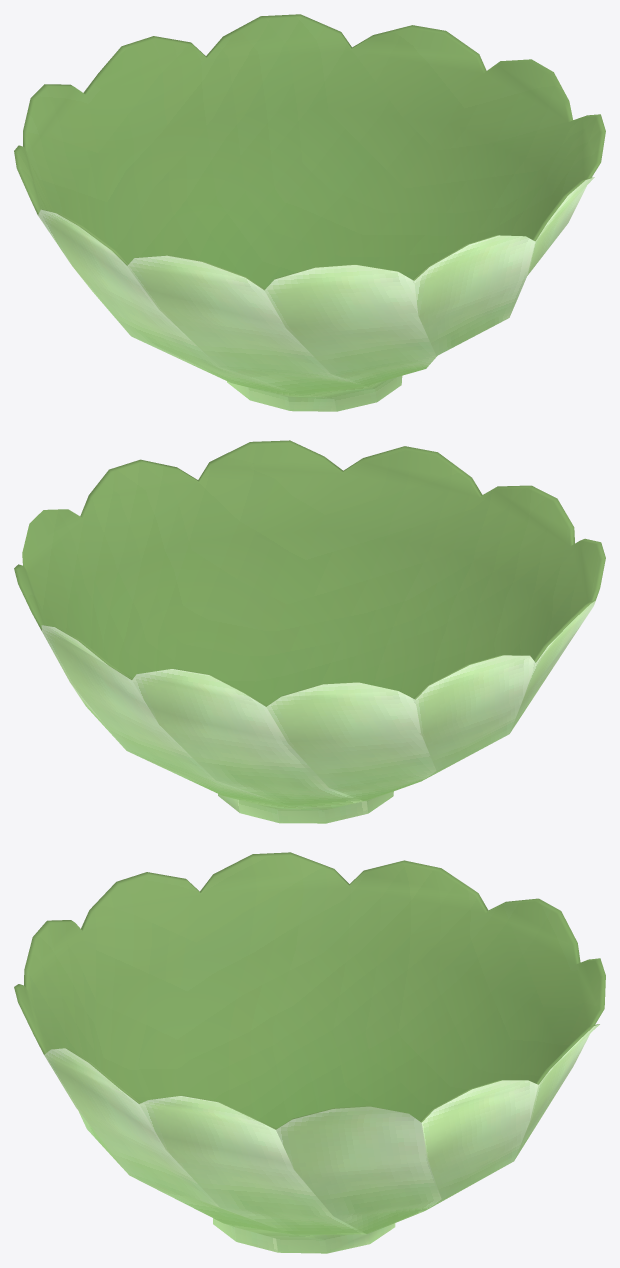
File: bowl.glb
3 views of the same model, one above another, from view 1: azimuth 30°, elevation 25°; view 2: azimuth 150°, elevation 25°; view 3: azimuth 270°, elevation 25° (orthographic). The views are drawn at different scales.
Visible parts, largest first — view 1: Cylinder.001; view 2: Cylinder.001; view 3: Cylinder.001.
Boxes of the visible parts, x1=… form: Cylinder.001: x1=14, y1=14, x2=605, y2=411; Cylinder.001: x1=14, y1=440, x2=605, y2=823; Cylinder.001: x1=14, y1=852, x2=605, y2=1253.
Bounding box in the file's own units: 0.2962 × 0.1264 × 0.2896.
1 material, 1 textured.
